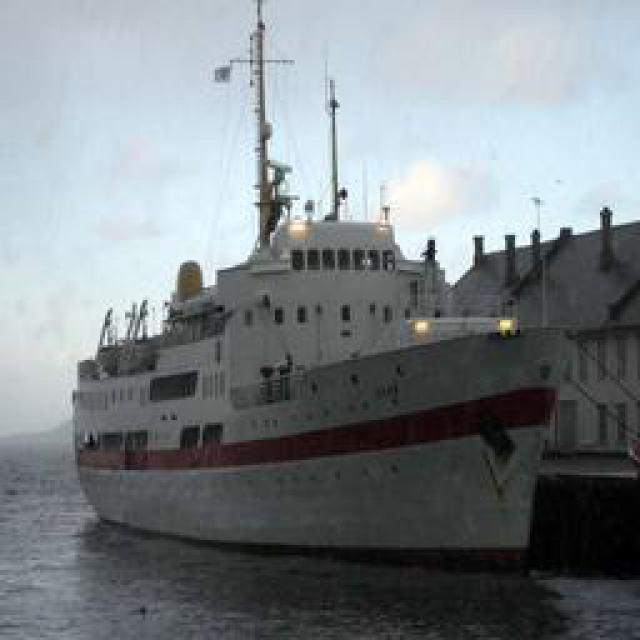Ship: (80, 70, 578, 563)
